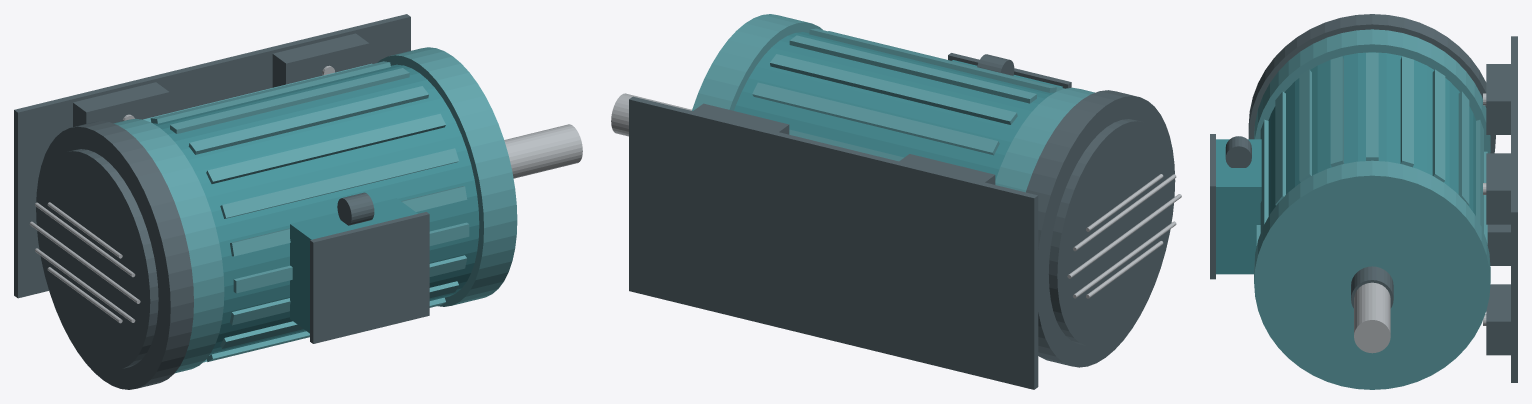
File: ap-motor-iec132-v2.glb
The picture shows the model from 3 angles, left to right: view 1: azimuth 30°, elevation 25°; view 2: azimuth 150°, elevation 25°; view 3: azimuth 270°, elevation 25°; orthographic projection. The views are drawn at different scales.
Visible parts, largest first — view 1: motor_v2_part_000, motor_v2_part_004, motor_v2_part_031, motor_v2_part_003, motor_v2_part_028, motor_v2_part_001, motor_v2_part_002, motor_v2_part_027, motor_v2_part_009, motor_v2_part_010, motor_v2_part_008, motor_v2_part_038 (+10 smaller); view 2: motor_v2_part_031, motor_v2_part_004, motor_v2_part_000, motor_v2_part_003, motor_v2_part_001, motor_v2_part_025, motor_v2_part_002, motor_v2_part_026, motor_v2_part_007, motor_v2_part_032, motor_v2_part_038, motor_v2_part_008 (+6 smaller); view 3: motor_v2_part_001, motor_v2_part_000, motor_v2_part_002, motor_v2_part_027, motor_v2_part_003, motor_v2_part_031, motor_v2_part_006, motor_v2_part_038, motor_v2_part_034, motor_v2_part_036, motor_v2_part_008, motor_v2_part_026 (+11 smaller).
Boxes of the visible parts, <box> form: motor_v2_part_000: <box>153,64,479,354</box>; motor_v2_part_004: <box>38,149,158,369</box>; motor_v2_part_031: <box>14,14,410,298</box>; motor_v2_part_003: <box>36,121,193,389</box>; motor_v2_part_028: <box>310,212,429,343</box>; motor_v2_part_001: <box>377,47,517,306</box>; motor_v2_part_002: <box>113,118,224,373</box>; motor_v2_part_027: <box>290,198,417,333</box>; motor_v2_part_009: <box>206,113,445,183</box>; motor_v2_part_010: <box>220,148,458,218</box>; motor_v2_part_008: <box>188,86,428,154</box>; motor_v2_part_038: <box>272,33,369,87</box>; motor_v2_part_031: <box>629,96,1038,389</box>; motor_v2_part_004: <box>1048,119,1172,346</box>; motor_v2_part_000: <box>734,32,1053,180</box>; motor_v2_part_003: <box>1026,90,1175,367</box>; motor_v2_part_001: <box>692,14,822,110</box>; motor_v2_part_025: <box>752,82,999,155</box>; motor_v2_part_002: <box>995,87,1094,192</box>; motor_v2_part_026: <box>770,54,1017,124</box>; motor_v2_part_007: <box>789,35,1036,103</box>; motor_v2_part_032: <box>891,314,977,372</box>; motor_v2_part_038: <box>686,103,789,165</box>; motor_v2_part_008: <box>809,28,1056,92</box>; motor_v2_part_001: <box>1254,160,1490,389</box>; motor_v2_part_000: <box>1268,52,1475,215</box>; motor_v2_part_002: <box>1254,29,1490,153</box>; motor_v2_part_027: <box>1216,139,1261,274</box>; motor_v2_part_003: <box>1248,14,1495,153</box>; motor_v2_part_031: <box>1511,36,1517,382</box>; motor_v2_part_006: <box>1354,282,1390,353</box>; motor_v2_part_038: <box>1486,153,1510,224</box>; motor_v2_part_034: <box>1486,64,1510,134</box>; motor_v2_part_036: <box>1486,284,1510,355</box>; motor_v2_part_008: <box>1330,56,1343,167</box>; motor_v2_part_026: <box>1400,56,1413,167</box>.
Size of the model in its own units: 1.58 by 0.7531 by 0.9374.
